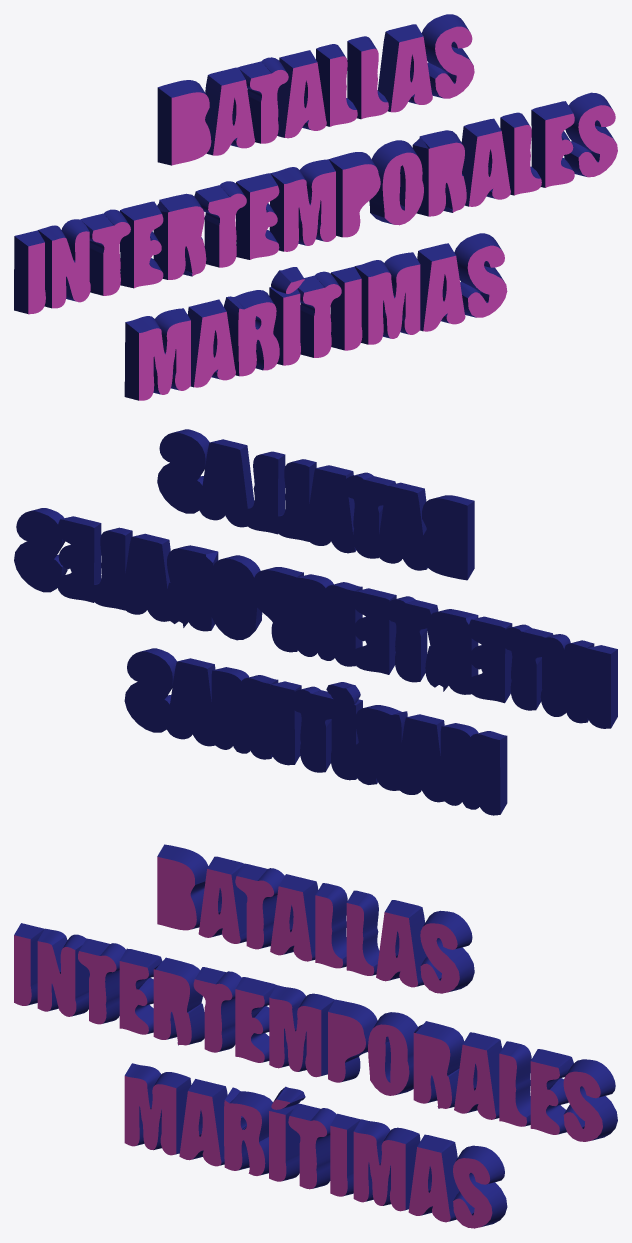
File: title.fbx
3 views of the same model, one above another, from view 1: azimuth 30°, elevation 25°; view 2: azimuth 150°, elevation 25°; view 3: azimuth 330°, elevation 25° (orthographic).
Parts seen in each view (by area): view 1: batallas.002, batallas, batallas.001; view 2: batallas.002, batallas, batallas.001; view 3: batallas.002, batallas, batallas.001.
Part boxes in pixels (x1=…): batallas.002: x1=14, y1=92, x2=617, y2=314; batallas: x1=124, y1=233, x2=507, y2=400; batallas.001: x1=157, y1=14, x2=474, y2=165; batallas.002: x1=14, y1=508, x2=617, y2=728; batallas: x1=124, y1=648, x2=507, y2=815; batallas.001: x1=157, y1=429, x2=474, y2=580; batallas.002: x1=14, y1=923, x2=617, y2=1141; batallas: x1=124, y1=1063, x2=507, y2=1228; batallas.001: x1=157, y1=844, x2=474, y2=993.
Size of the model in its own units: 289 by 142 by 8.85.
